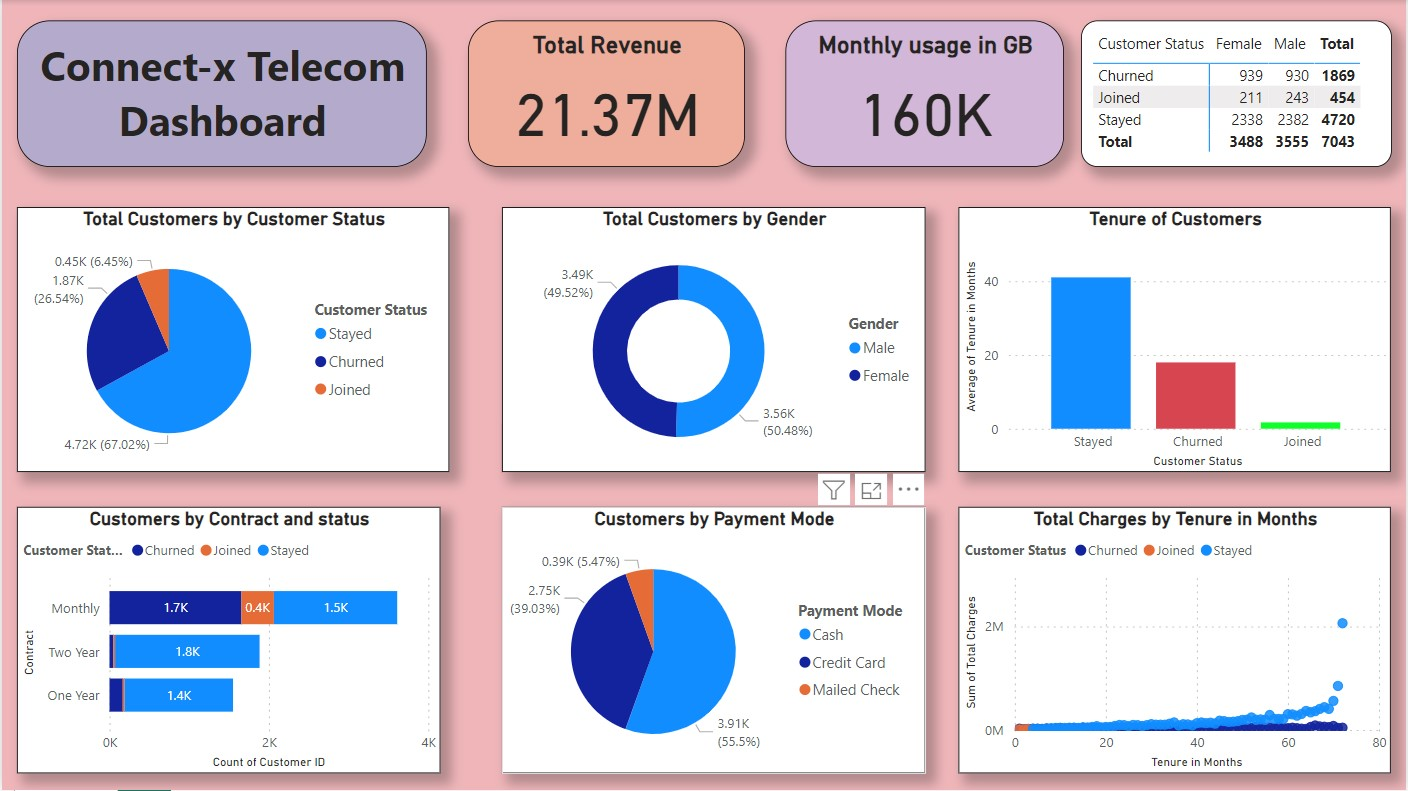

This screenshot's page, from the dashboard's own definition file:
{"tool":"powerbi","page":{"name":"Page 1","canvas":[1280,720],"ordinal":0},"visuals":[{"type":"pieChart","title":"Total Customers by Customer Status","fields":{"Category":["Details.Customer Status"],"Y":["CountNonNull(Details.Customer ID)"]},"box":[13.9,188.9,394.4,241.7],"z":0},{"type":"textbox","box":[13.9,18.1,373.6,133.3],"z":1},{"type":"donutChart","title":"Total Customers by Gender","fields":{"Category":["Details.Gender"],"Y":["CountNonNull(Details.Customer ID)"]},"box":[455.6,188.9,386.1,241.7],"z":2},{"type":"clusteredColumnChart","title":" Tenure of  Customers ","fields":{"Y":["Avg(Details.Tenure in Months)"],"Category":["Details.Customer Status"]},"box":[872.2,188.9,394.4,241.7],"z":3},{"type":"barChart","title":" Customers by Contract and status","fields":{"Category":["Details.Contract"],"Series":["Details.Customer Status"],"Y":["CountNonNull(Details.Customer ID)"]},"box":[13.9,462.5,386.1,243.1],"z":4},{"type":"pieChart","title":"Customers by Payment Mode","fields":{"Category":["Details.Payment Method"],"Y":["CountNonNull(Details.Customer ID)"]},"box":[455.6,462.5,386.1,243.1],"z":5},{"type":"scatterChart","title":" Total Charges by Tenure in Months","fields":{"X":["Details.Tenure in Months"],"Y":["Sum(Details.Total Charges)"],"Series":["Details.Customer Status"]},"box":[872.2,462.5,394.4,243.1],"z":6},{"type":"card","title":"Total Revenue","fields":{"Values":["Sum(Details.Total Revenue)"]},"box":[425,18.1,252.8,133.3],"z":7},{"type":"card","title":"Monthly usage in GB","fields":{"Values":["Sum(Details.Avg Monthly GB Download)"]},"box":[713.9,18.1,254.2,133.3],"z":8},{"type":"pivotTable","fields":{"Rows":["Details.Customer Status"],"Columns":["Details.Gender"],"Values":["CountNonNull(Details.Customer ID)"]},"box":[983.3,18.1,283.3,133.3],"z":9}]}

Visuals, with their boxes in screenshot pixels (x1, y1, x2, y2), scaled from the page's 1280x720 canvas onto the 1408x791 screenshot:
"Total Customers by Customer Status" pieChart: region(15, 208, 449, 473)
textbox: region(15, 20, 426, 166)
"Total Customers by Gender" donutChart: region(501, 208, 926, 473)
" Tenure of  Customers " clusteredColumnChart: region(959, 208, 1393, 473)
" Customers by Contract and status" barChart: region(15, 508, 440, 775)
"Customers by Payment Mode" pieChart: region(501, 508, 926, 775)
" Total Charges by Tenure in Months" scatterChart: region(959, 508, 1393, 775)
"Total Revenue" card: region(468, 20, 746, 166)
"Monthly usage in GB" card: region(785, 20, 1065, 166)
pivotTable - Details.Customer Status x Details.Gender: region(1082, 20, 1393, 166)
